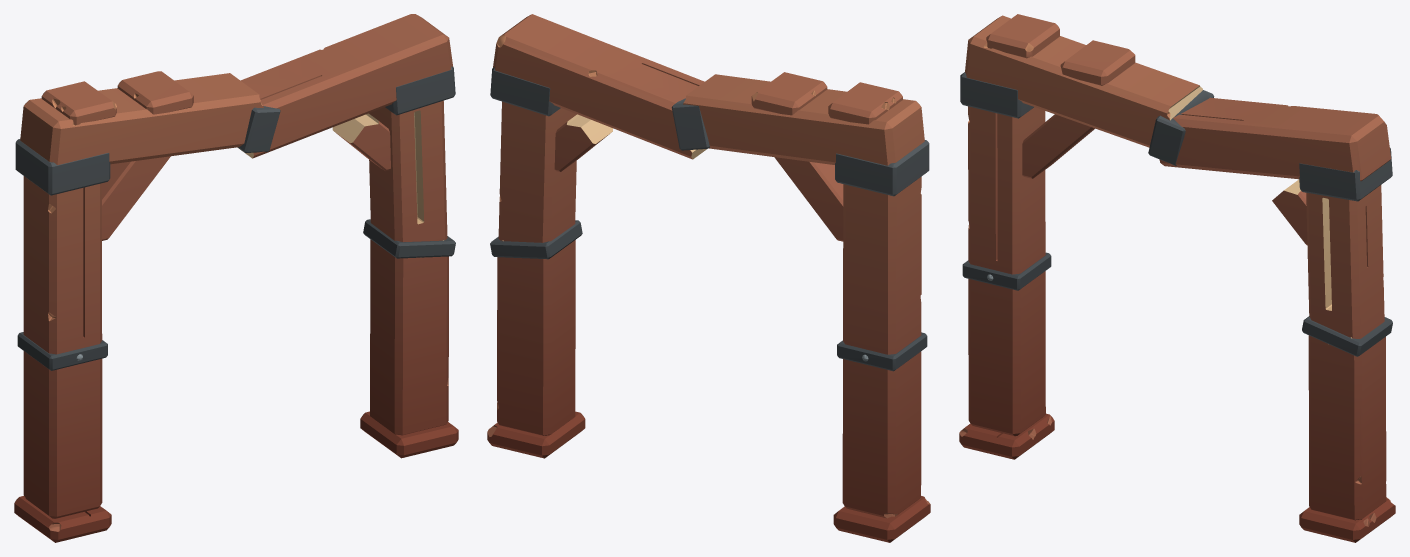
File: timber_frame_cracked.glb
3 views of the same model, side by side, from view 1: azimuth 30°, elevation 25°; view 2: azimuth 150°, elevation 25°; view 3: azimuth 330°, elevation 25° (orthographic).
Visible parts, largest first — view 1: timber_frame_cracked; view 2: timber_frame_cracked; view 3: timber_frame_cracked.
Part boxes in pixels (<box>): timber_frame_cracked: <box>14,14,458,542</box>; timber_frame_cracked: <box>487,14,930,542</box>; timber_frame_cracked: <box>959,14,1395,542</box>.
Size of the model in its own units: 3.96 by 3.93 by 0.7111.
Materials: 1 (1 with a texture image).
